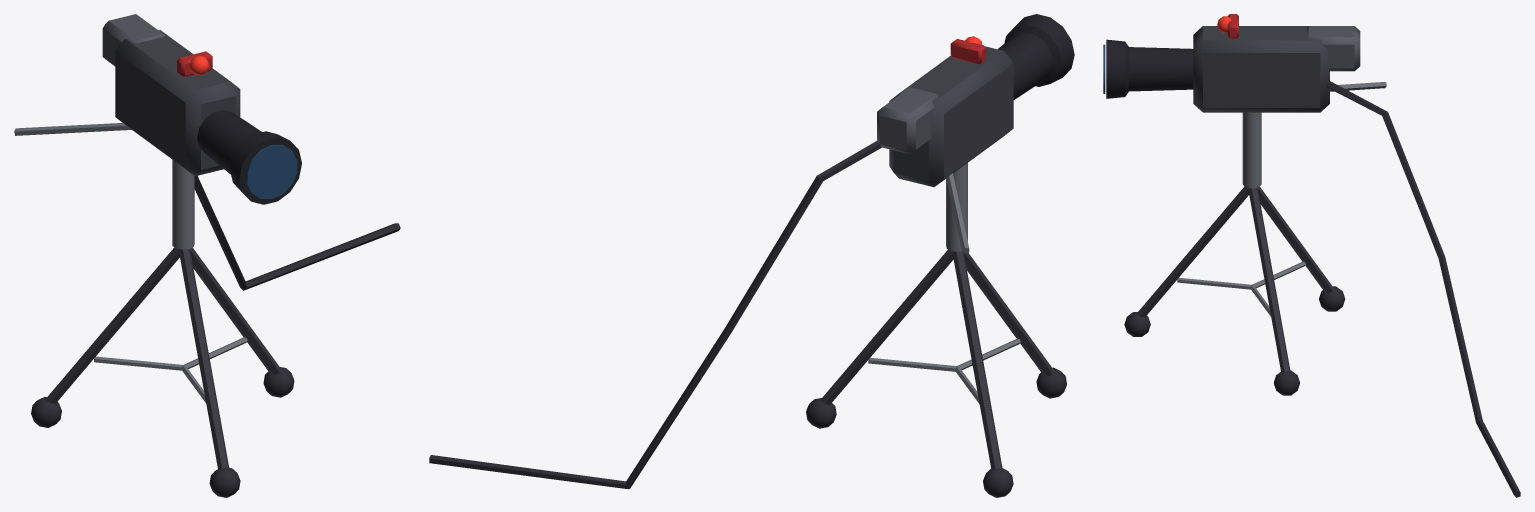
File: camera_rig.glb
3 renders of one model, left to right at view 1: azimuth 30°, elevation 25°; view 2: azimuth 150°, elevation 25°; view 3: azimuth 270°, elevation 25°, orthographic. The views are drawn at different scales.
Visible parts, largest first — view 1: camera_rig; view 2: camera_rig; view 3: camera_rig.
Boxes of the visible parts, box(x1,y1,x2,y2) form: camera_rig: box(14, 14, 400, 497); camera_rig: box(429, 14, 1074, 497); camera_rig: box(1103, 14, 1520, 497).
Bounding box in the file's own units: 2.43 × 1.92 × 2.2.
